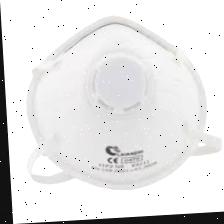mask: (16, 11, 224, 202)
